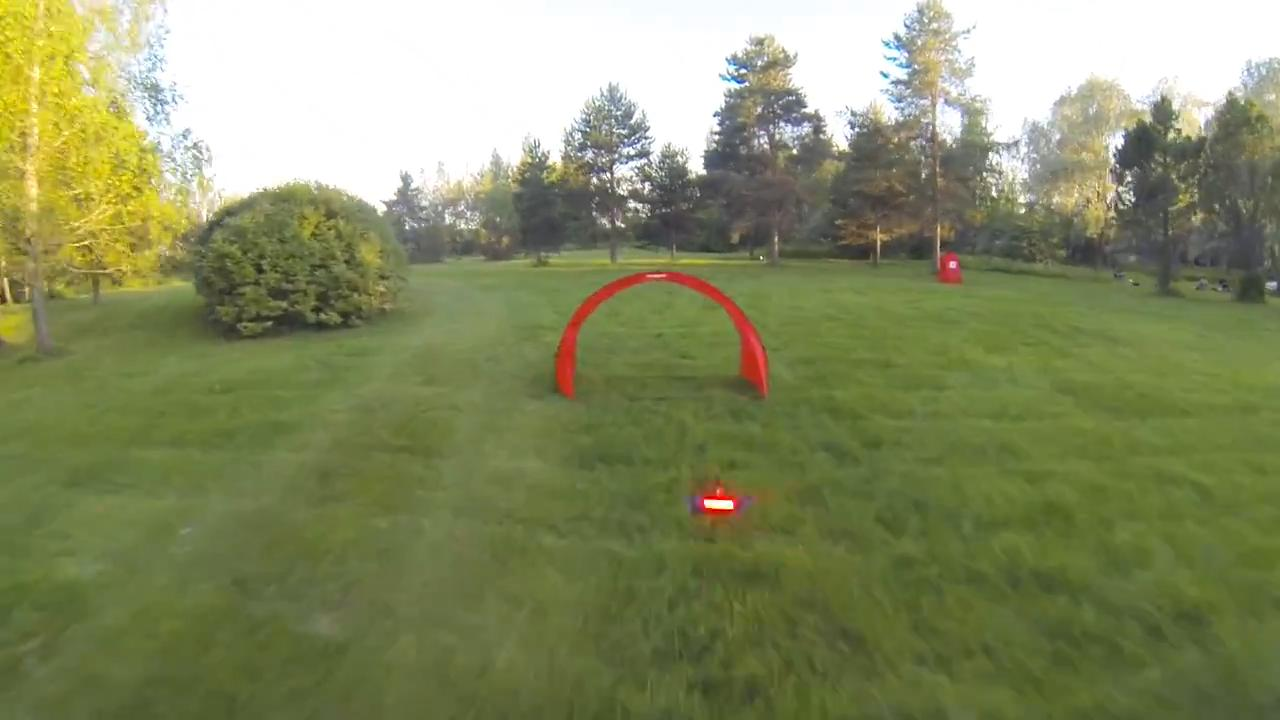gate: (544, 268, 763, 401)
